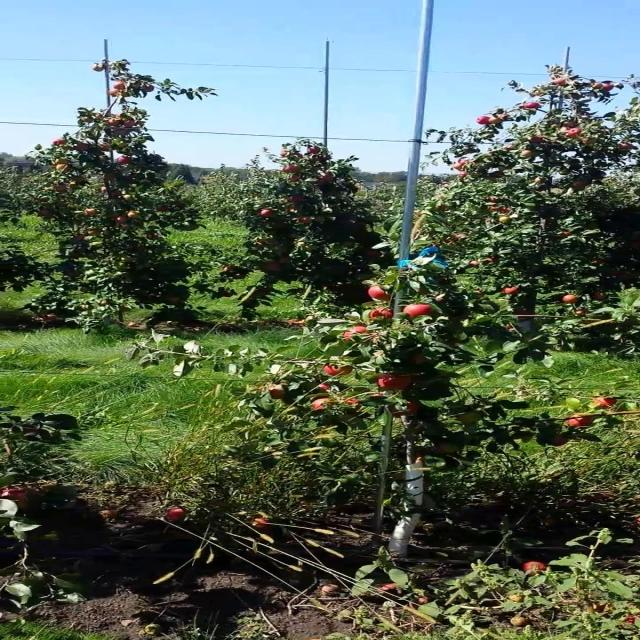apple: (383, 376, 414, 392), (404, 304, 434, 319), (390, 404, 420, 417), (326, 364, 356, 376), (568, 416, 596, 428), (369, 288, 391, 301), (461, 412, 484, 424), (433, 444, 460, 454), (348, 328, 370, 338), (369, 312, 395, 320), (312, 400, 329, 412), (596, 400, 619, 408), (20, 428, 43, 436), (554, 436, 569, 448), (269, 388, 284, 400), (6, 488, 21, 500), (348, 396, 363, 405), (412, 356, 427, 364), (319, 384, 332, 391), (348, 400, 363, 405)
